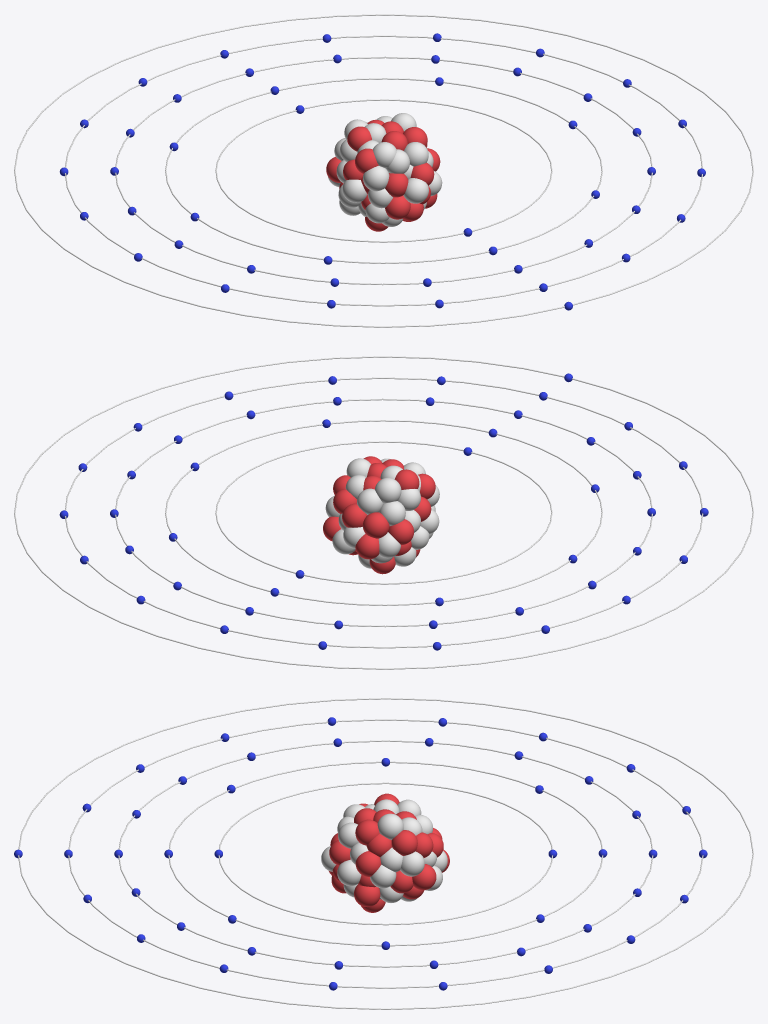
Rendered from Silber.glb.
The picture shows the model from 3 angles, top to bottom: view 1: azimuth 30°, elevation 25°; view 2: azimuth 150°, elevation 25°; view 3: azimuth 270°, elevation 25°; orthographic projection.
Parts seen in each view (by area): view 1: O-Schale, N-Schale, M-Schale, L-Schale, K-Schale, Neutron 44; view 2: O-Schale, N-Schale, M-Schale, L-Schale, K-Schale, Proton 41, Neutron 59; view 3: O-Schale, N-Schale, M-Schale, L-Schale, K-Schale, Proton 36.
Part boxes in pixels (<box>): O-Schale: <box>14,14,753,327</box>; N-Schale: <box>65,35,702,306</box>; M-Schale: <box>115,56,652,285</box>; L-Schale: <box>165,78,602,263</box>; K-Schale: <box>215,99,552,242</box>; Neutron 44: <box>363,166,389,191</box>; O-Schale: <box>14,356,753,669</box>; N-Schale: <box>65,377,703,648</box>; M-Schale: <box>115,398,652,627</box>; L-Schale: <box>165,420,602,605</box>; K-Schale: <box>215,441,552,584</box>; Proton 41: <box>362,512,389,538</box>; Neutron 59: <box>375,477,401,503</box>; O-Schale: <box>18,698,753,1009</box>; N-Schale: <box>68,719,703,988</box>; M-Schale: <box>118,740,653,967</box>; L-Schale: <box>168,761,603,946</box>; K-Schale: <box>218,782,552,925</box>; Proton 36: <box>391,830,417,855</box>.
Size of the model in its own units: 22.04 by 3.27 by 22.15.
